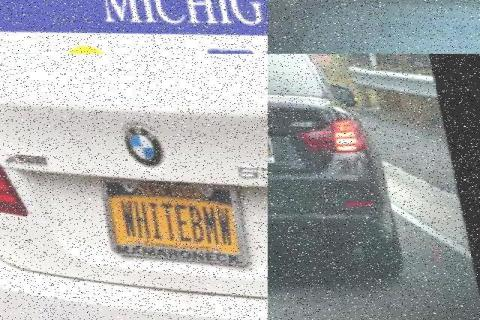LicensePlate: (93, 173, 240, 263), (268, 0, 459, 54), (268, 129, 294, 163)
